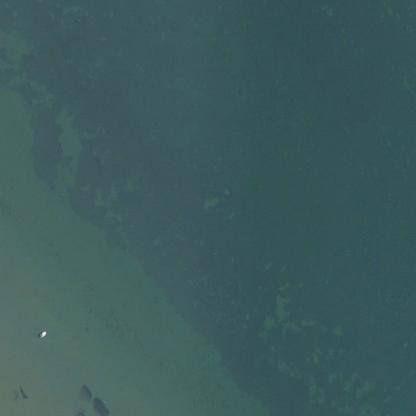ship: (32, 325, 52, 342)
